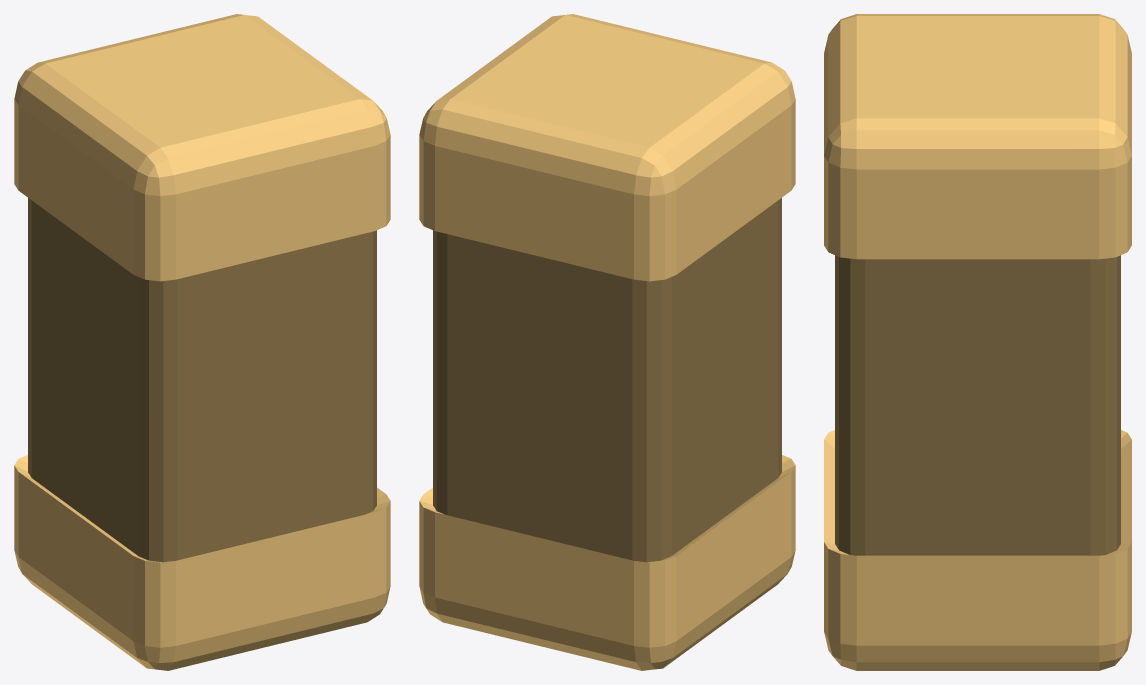
File: StoneBlockWallFlat3.1 1.fbx
3 views of the same model, side by side, from view 1: azimuth 30°, elevation 25°; view 2: azimuth 150°, elevation 25°; view 3: azimuth 270°, elevation 25° (orthographic). The views are drawn at different scales.
Visible parts, largest first — view 1: StraightWallPlain.008; view 2: StraightWallPlain.008; view 3: StraightWallPlain.008.
Boxes of the visible parts, x1,y1,x2,y2 form: StraightWallPlain.008: (14, 14, 390, 670); StraightWallPlain.008: (419, 14, 795, 670); StraightWallPlain.008: (824, 14, 1131, 670).
Bounding box in the file's own units: 323 × 638 × 323.
